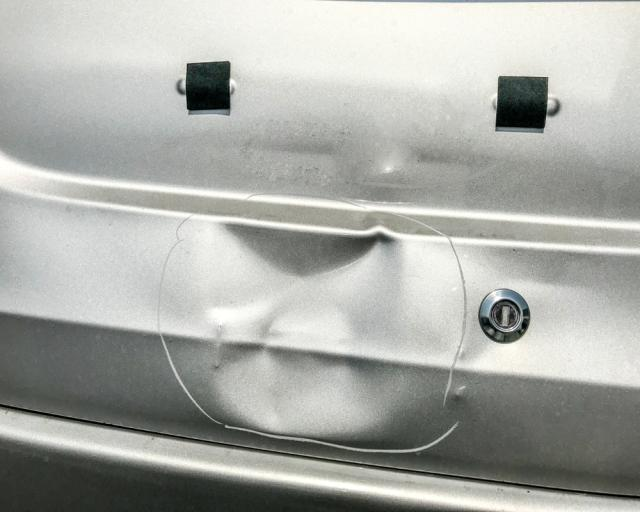dent: (204, 221, 414, 439)
